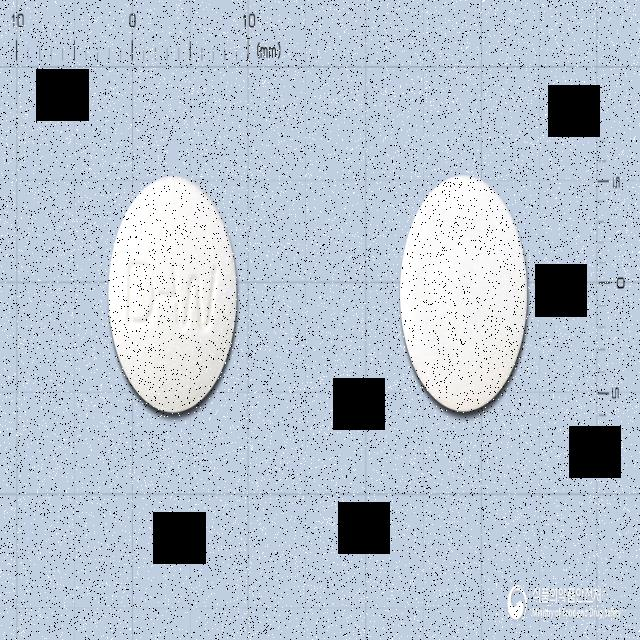Cipoxacin: (106, 171, 240, 419)
